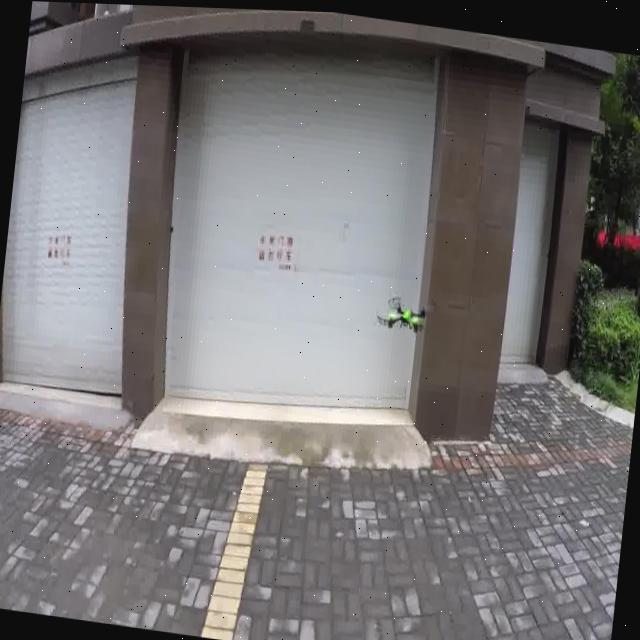drone: (371, 286, 438, 346)
